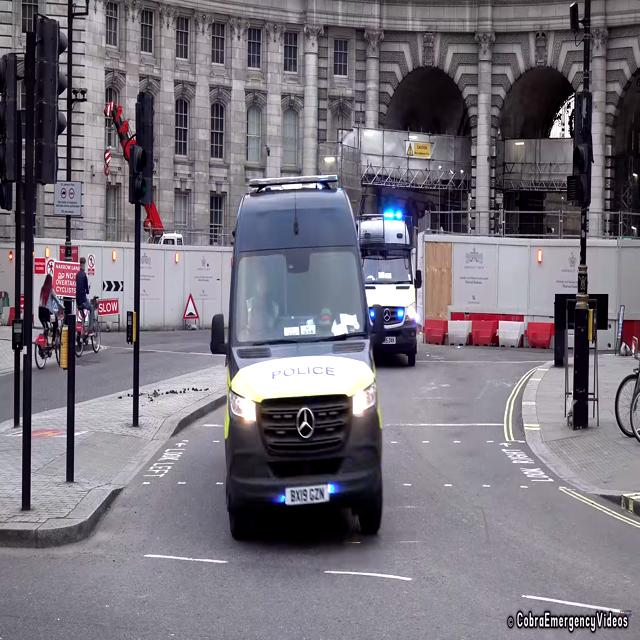emergency-vehicles: (204, 168, 393, 556), (339, 195, 423, 377)
